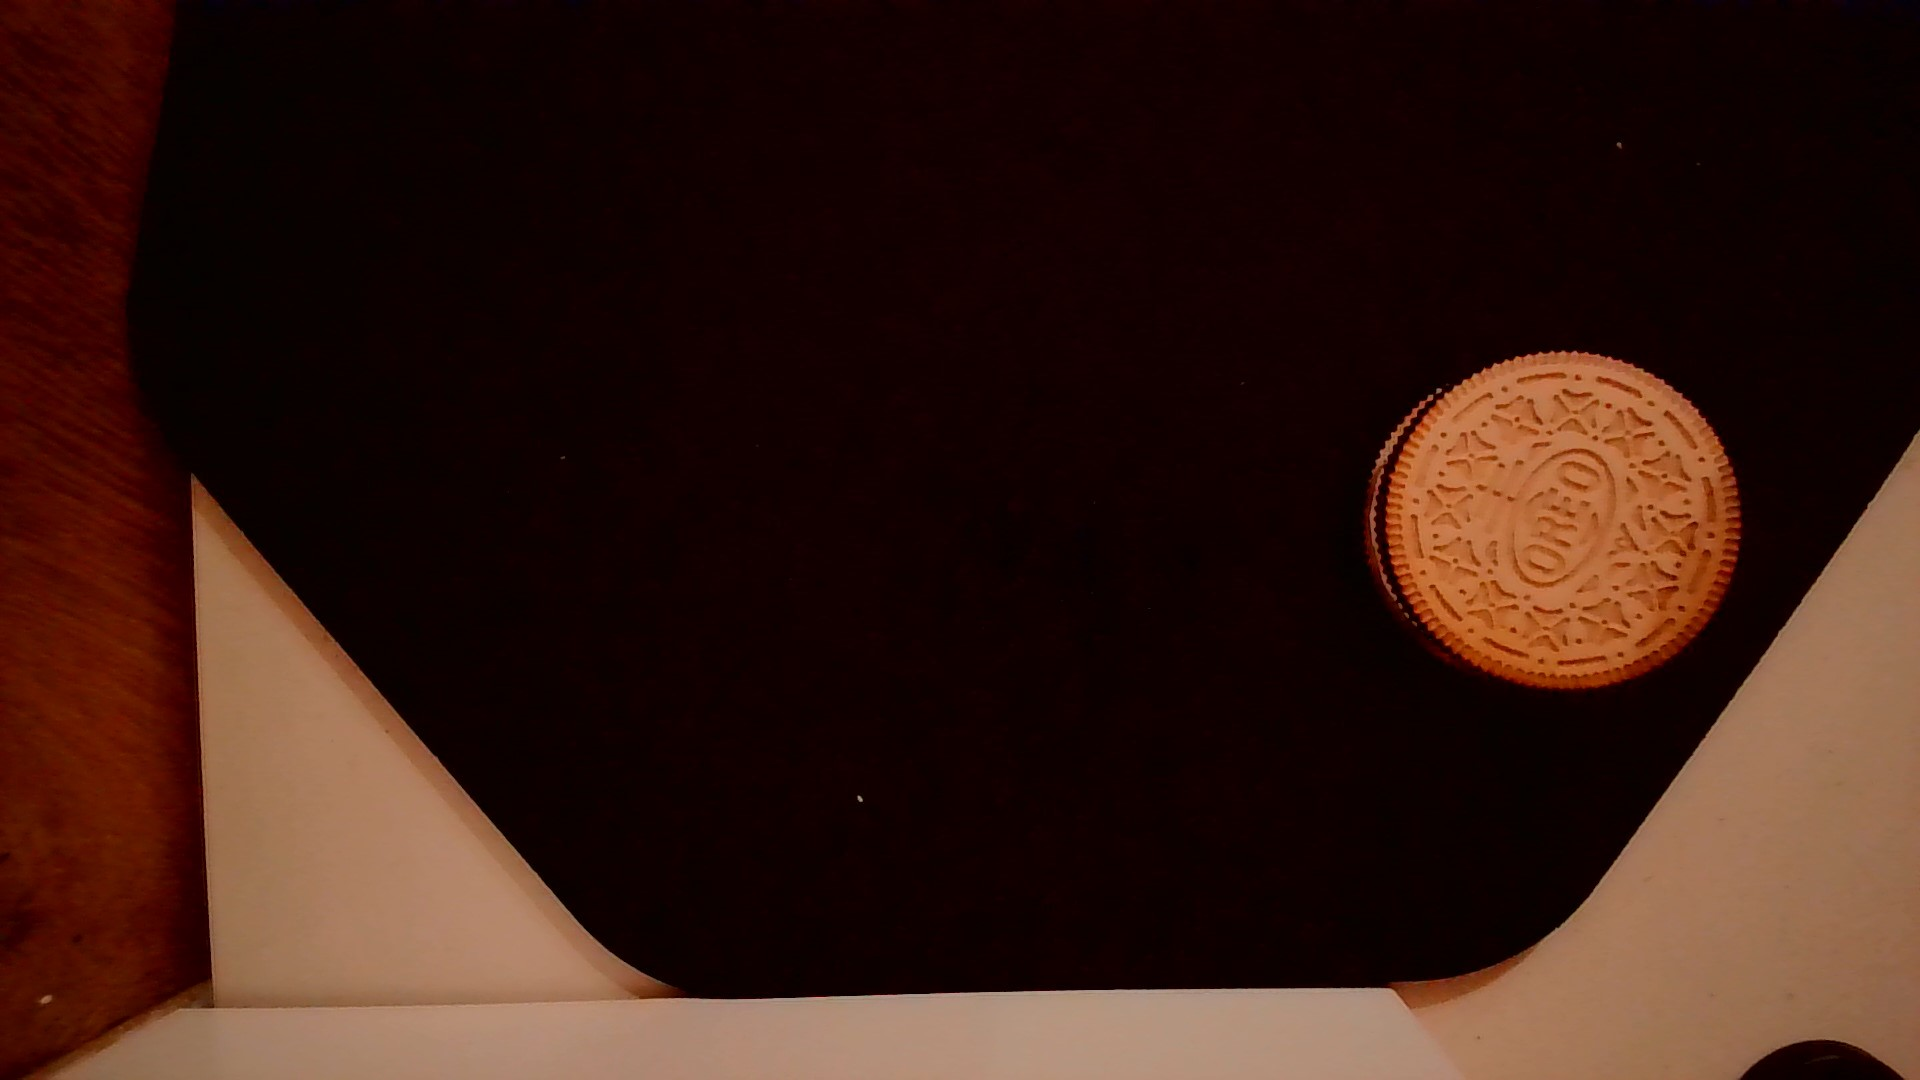Oréo: (1353, 338, 1750, 698)
